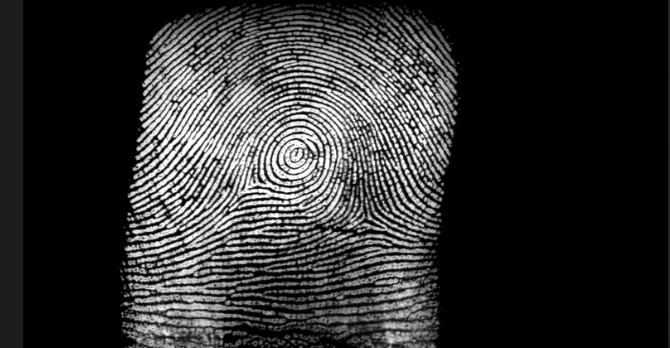nucelo: (272, 135, 315, 175)
verticilo: (350, 206, 380, 230), (249, 173, 274, 193)
